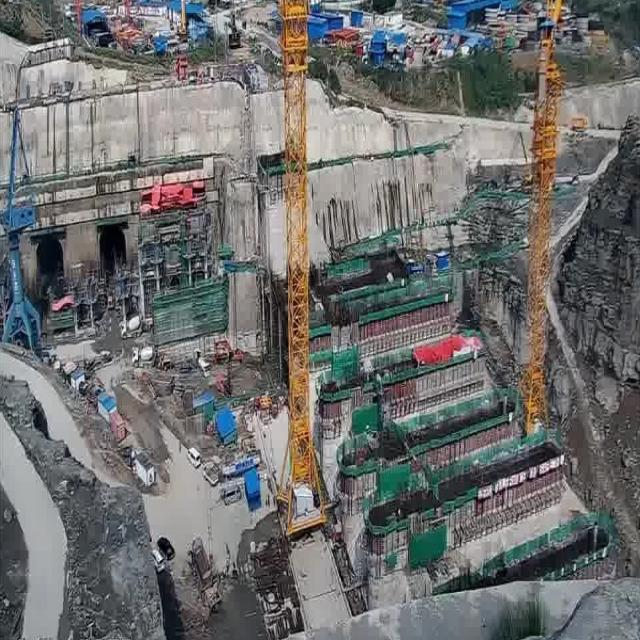crane: (277, 0, 326, 537), (513, 0, 563, 437), (0, 107, 42, 353), (519, 130, 533, 193)
excavator: (214, 339, 246, 366)
truck: (570, 118, 588, 132)
